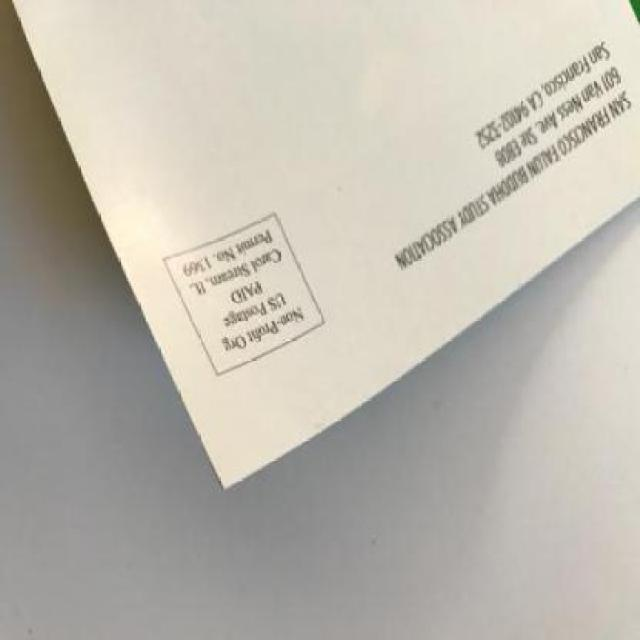PAPER: (16, 1, 638, 494)
